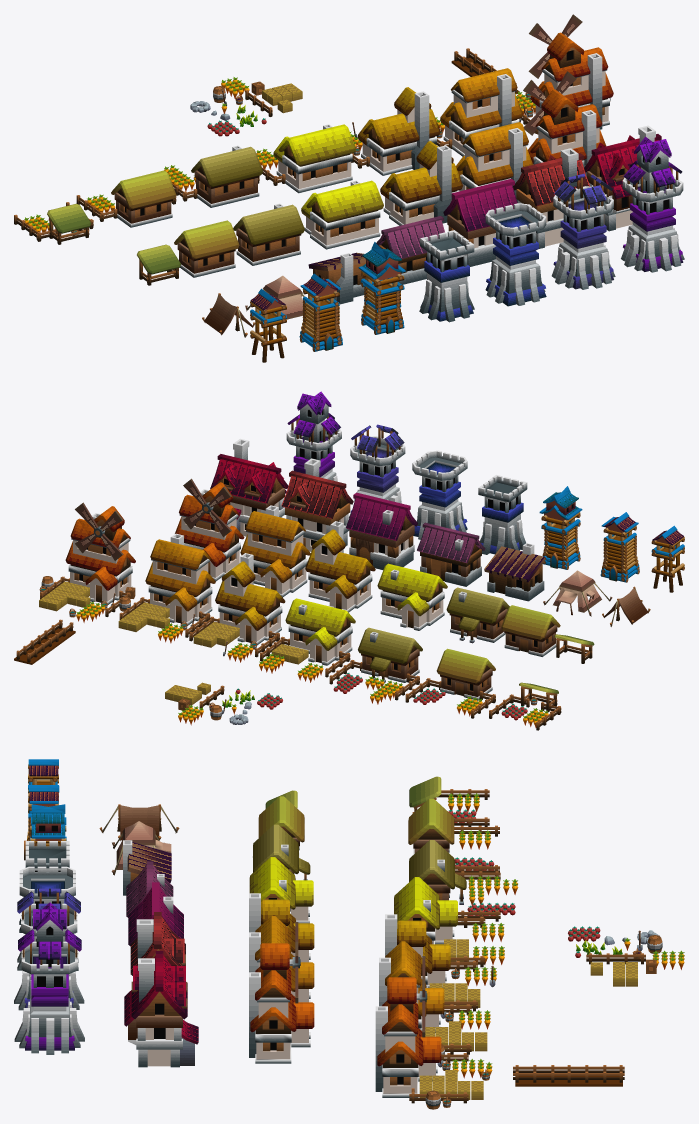
The model's file is Buildings.fbx.
The picture shows the model from 3 angles, top to bottom: view 1: azimuth 30°, elevation 25°; view 2: azimuth 150°, elevation 25°; view 3: azimuth 270°, elevation 25°; orthographic projection. The views are drawn at different scales.
Parts seen in each view (by area): view 1: tower_lvl7, tower_lvl6, farm_lvl7, tower_lvl5, farm_lvl5, farm_lvl4, farm_lvl6, farm_house_lvl5, farm_house_lvl7, farm_house_lvl4, tower_lvl4, farm_lvl3 (+18 smaller); view 2: farm_lvl7, farm_lvl6, farm_lvl5, farm_lvl4, farm_house_lvl6, farm_house_lvl7, house_lvl5, farm_lvl3, farm_house_lvl5, house_lvl6, house_lvl7, tower_lvl5 (+17 smaller); view 3: farm_lvl7, tower_lvl7, house_lvl7, farm_house_lvl7, farm_lvl6, farm_lvl4, farm_lvl5, farm_lvl3, farm_lvl2, tower_lvl6, farm_house_lvl4, Bridge (+17 smaller).
Part boxes in pixels (<box>): tower_lvl7: <box>621,136,684,272</box>; tower_lvl6: <box>551,173,615,289</box>; farm_lvl7: <box>515,14,613,134</box>; tower_lvl5: <box>485,203,546,306</box>; farm_lvl5: <box>350,87,440,175</box>; farm_lvl4: <box>256,124,356,193</box>; farm_lvl6: <box>435,68,522,156</box>; farm_house_lvl5: <box>380,141,462,225</box>; farm_house_lvl7: <box>523,71,606,176</box>; farm_house_lvl4: <box>301,180,383,249</box>; tower_lvl4: <box>419,230,474,322</box>; farm_lvl3: <box>164,145,262,207</box>; farm_lvl7: <box>39,502,135,622</box>; farm_lvl6: <box>118,533,215,643</box>; farm_lvl5: <box>189,553,285,662</box>; farm_lvl4: <box>259,598,355,682</box>; farm_house_lvl6: <box>240,505,310,597</box>; farm_house_lvl7: <box>175,478,244,581</box>; house_lvl5: <box>346,492,417,569</box>; farm_lvl3: <box>329,627,422,704</box>; farm_house_lvl5: <box>305,521,375,612</box>; house_lvl6: <box>281,458,353,551</box>; house_lvl7: <box>210,438,288,536</box>; tower_lvl5: <box>412,450,467,539</box>; farm_lvl7: <box>375,956,492,1109</box>; tower_lvl7: <box>14,902,84,1054</box>; house_lvl7: <box>124,951,198,1067</box>; farm_house_lvl7: <box>249,922,314,1063</box>; farm_lvl6: <box>379,941,490,1054</box>; farm_lvl4: <box>394,877,504,967</box>; farm_lvl5: <box>385,914,496,1011</box>; farm_lvl3: <box>409,840,518,921</box>; farm_lvl2: <box>408,798,499,875</box>; tower_lvl6: <box>14,888,84,1010</box>; farm_house_lvl4: <box>249,857,313,923</box>; Bridge: <box>513,1065,624,1086</box>.
Bounding box in the file's own units: 721 × 147 × 655.
